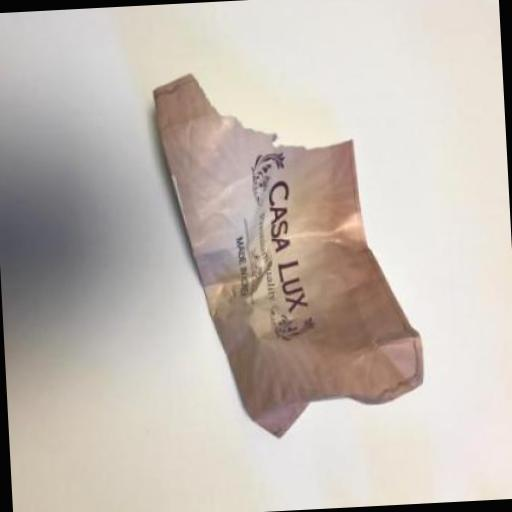paper: (152, 65, 428, 448), (152, 64, 428, 446)
